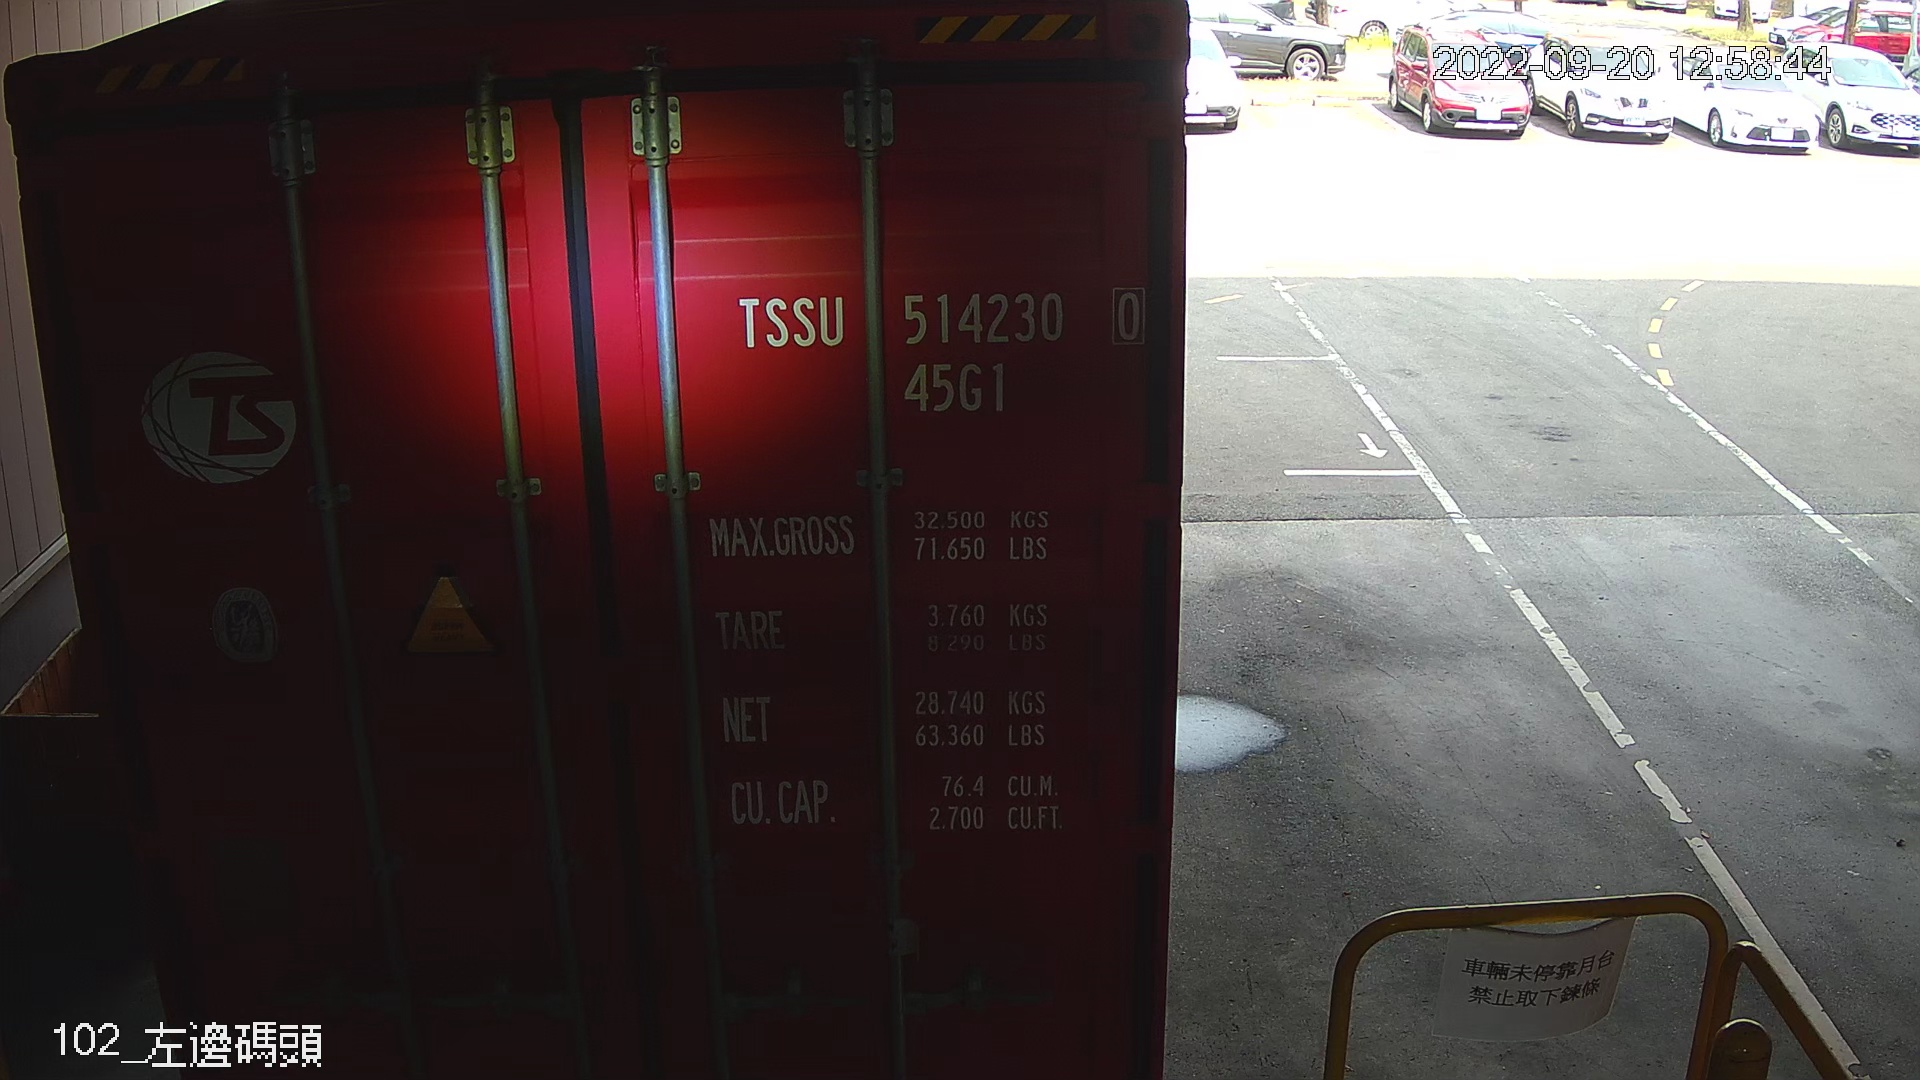container: (712, 272, 1159, 435)
